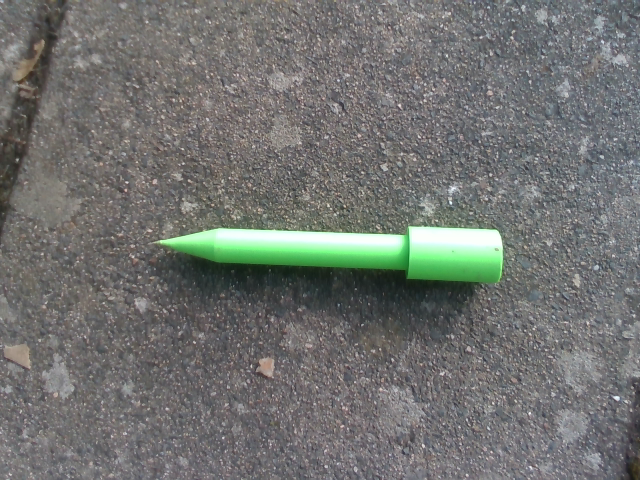Probe: (143, 207, 513, 303)
